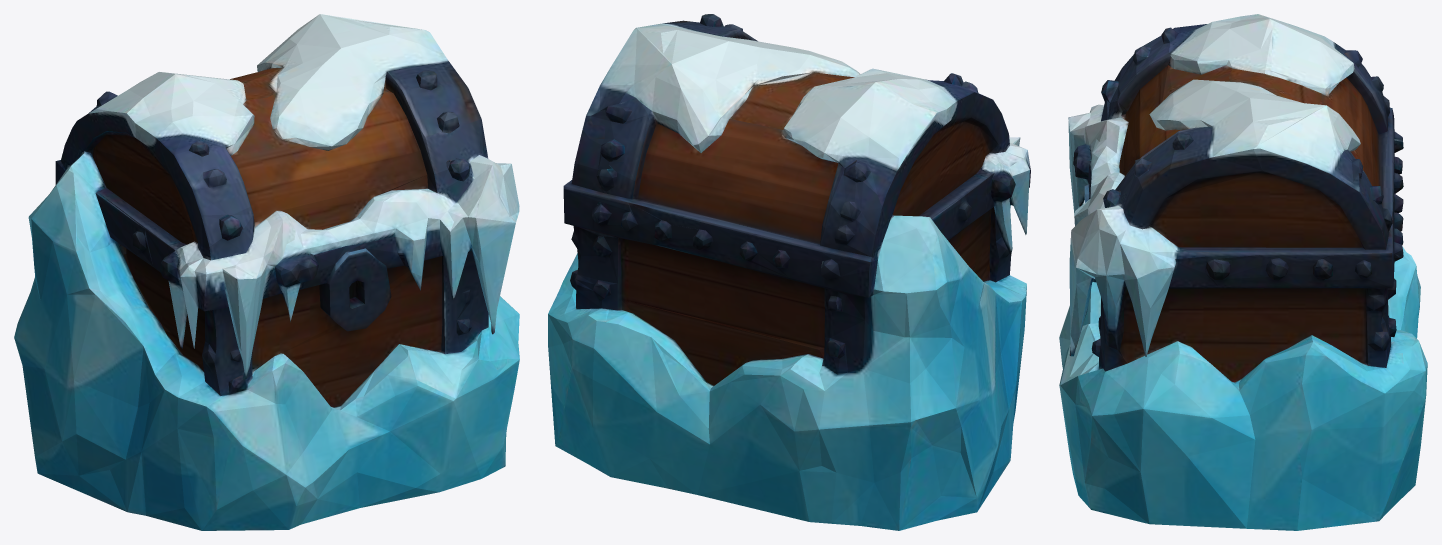
File: d_givre_coffre_gele.glb
3 renders of one model, left to right at view 1: azimuth 30°, elevation 25°; view 2: azimuth 150°, elevation 25°; view 3: azimuth 270°, elevation 25°, orthographic. The views are drawn at different scales.
Visible parts, largest first — view 1: geometry_0; view 2: geometry_0; view 3: geometry_0.
Boxes of the visible parts, x1=… form: geometry_0: x1=14, y1=14, x2=519, y2=530; geometry_0: x1=548, y1=14, x2=1030, y2=530; geometry_0: x1=1059, y1=14, x2=1427, y2=530.
Size of the model in its own units: 0.9881 by 0.9068 by 0.7985.
1 material, 1 textured.
